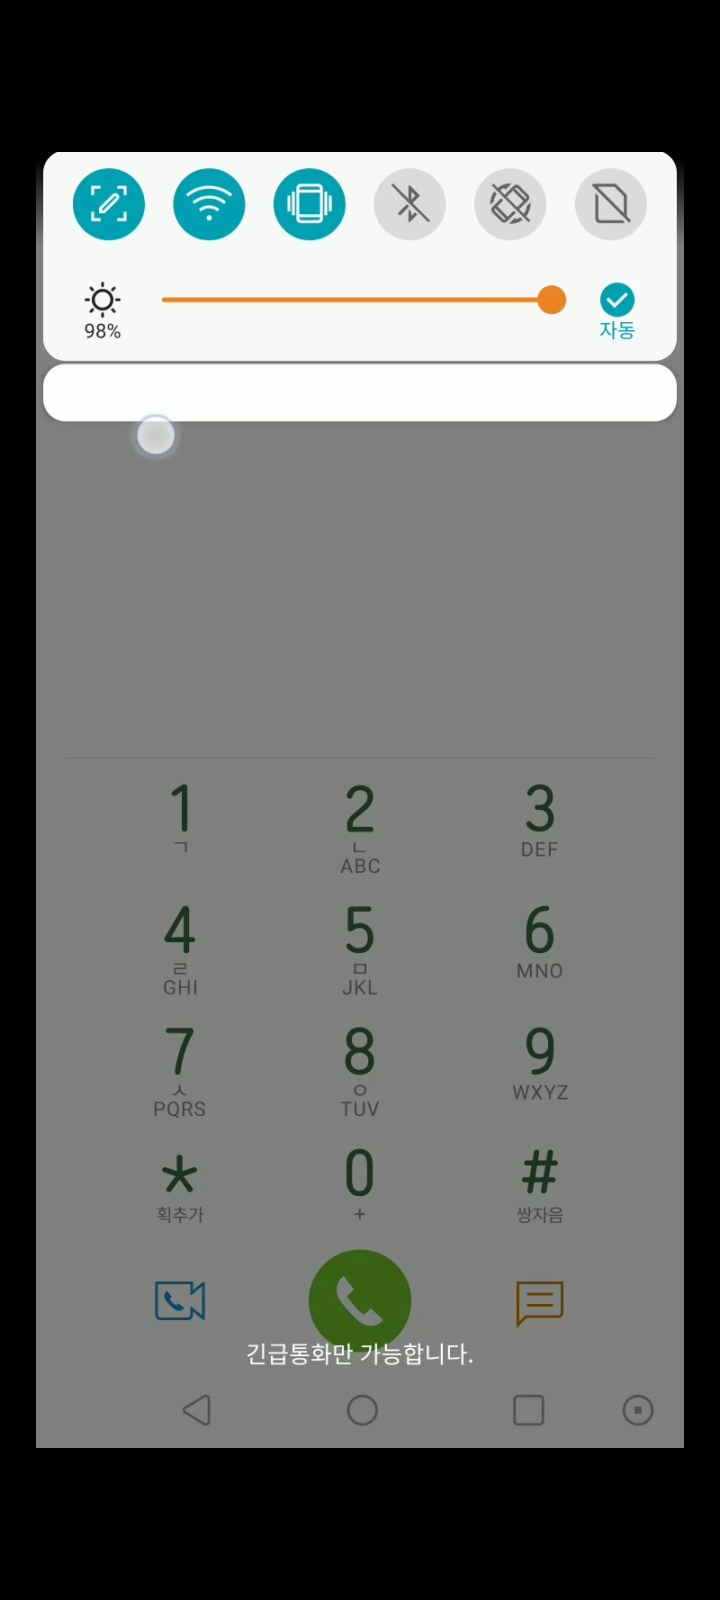Cursor: (134, 413, 179, 458)
